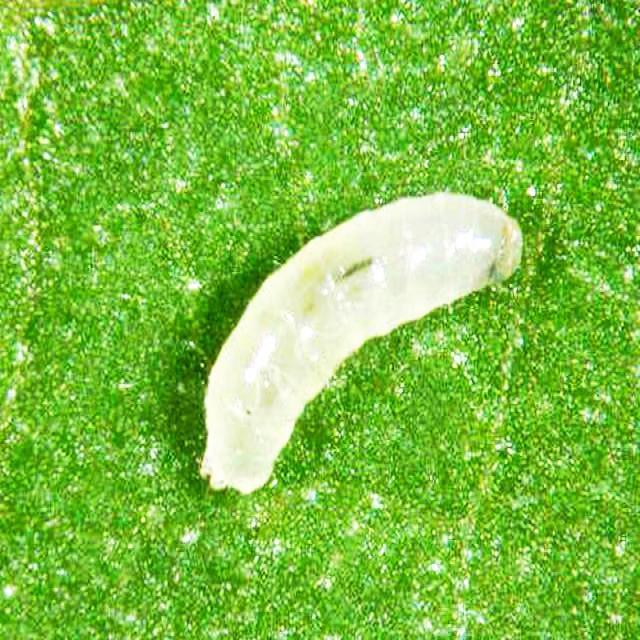whorl-maggot: (195, 184, 529, 498)
